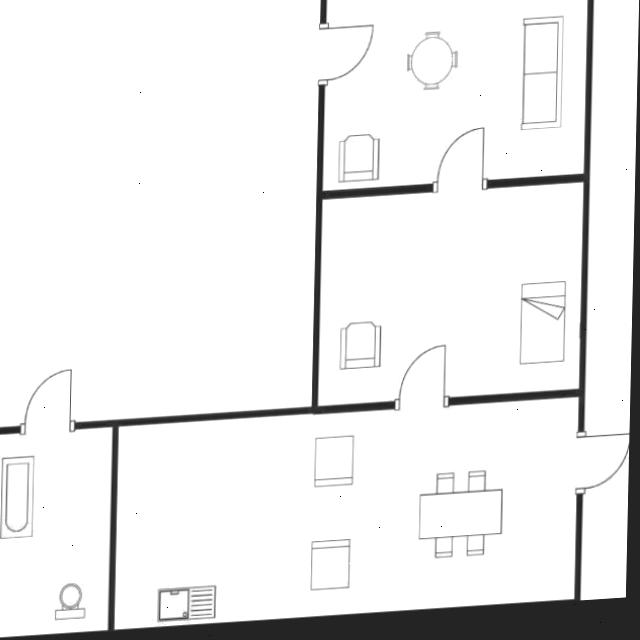room: (100, 397, 592, 631), (304, 182, 597, 406), (323, 0, 588, 191), (0, 427, 112, 637)
